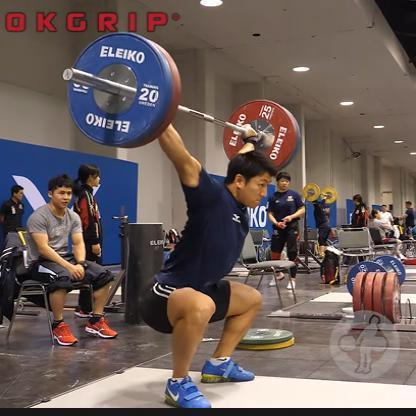barbell: (63, 31, 302, 171)
